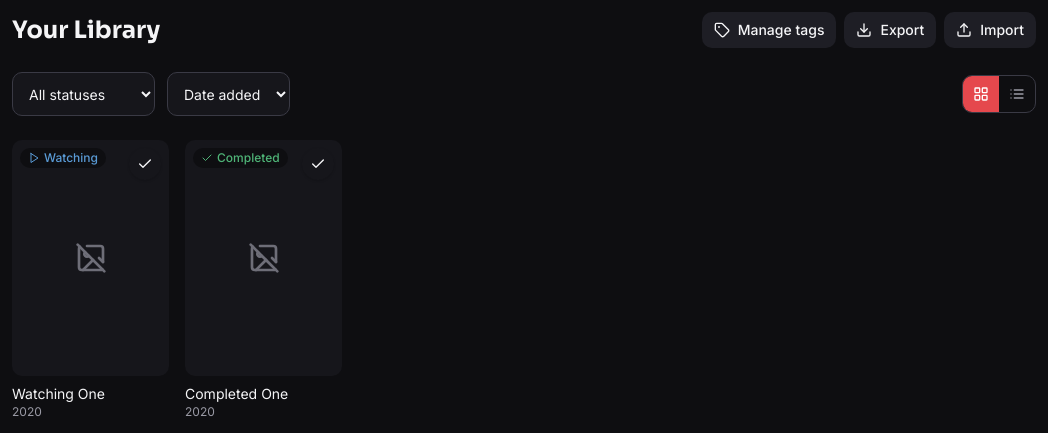
LibraryScreen › filters by status
Expected: the text "Watching One" is shown, 12,385 -> 105,402
Select "Completed" in the dropdown named "filter by status". click: (84, 94)
box: 12,72 -> 155,116
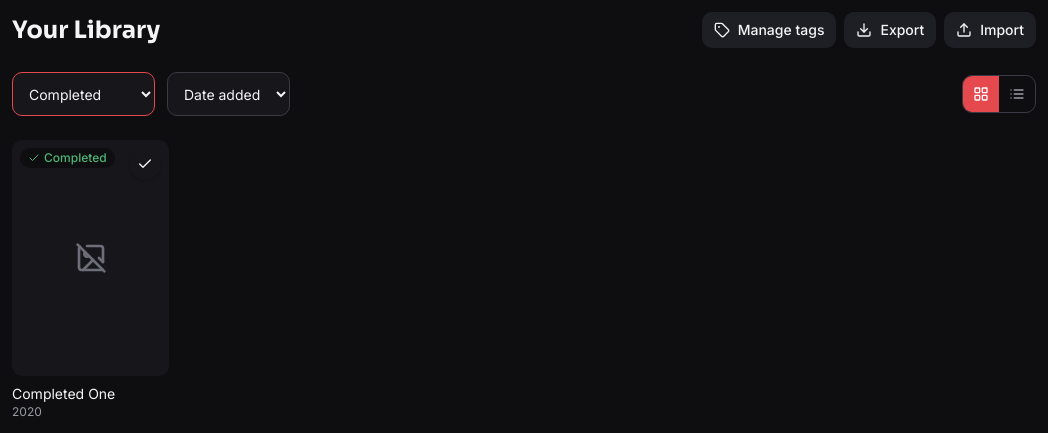
Expected: the text "Completed One" is shown, 12,385 -> 115,402
Expected: the link "Watching One" is gone
